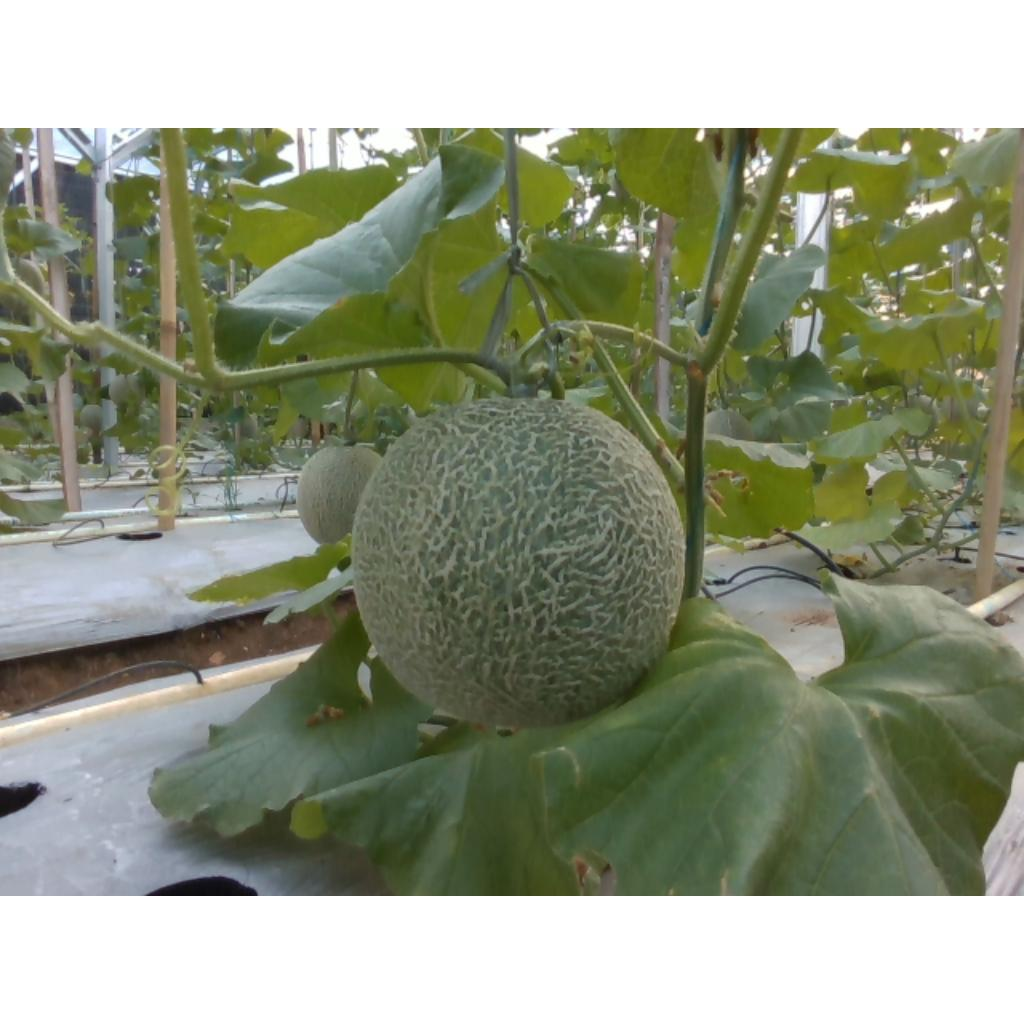melon: (355, 398, 685, 729)
